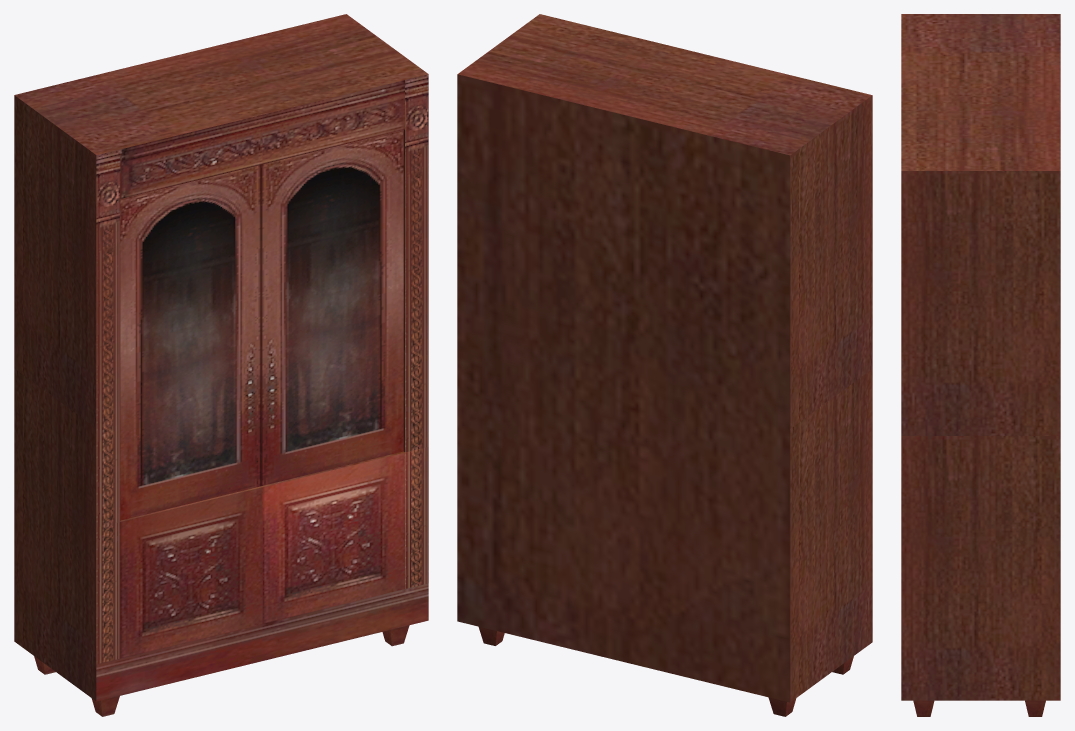
File: china_cabinet.fbx
3 views of the same model, side by side, from view 1: azimuth 30°, elevation 25°; view 2: azimuth 150°, elevation 25°; view 3: azimuth 270°, elevation 25° (orthographic). The views are drawn at different scales.
Visible parts, largest first — view 1: mesh_0; view 2: mesh_0; view 3: mesh_0.
Part boxes in pixels (box(x1,y1,x2,y2)): mesh_0: box(14, 14, 428, 716); mesh_0: box(457, 14, 872, 716); mesh_0: box(901, 14, 1060, 716).
Size of the model in its own units: 140 by 230 by 60.
1 material, 1 textured.
